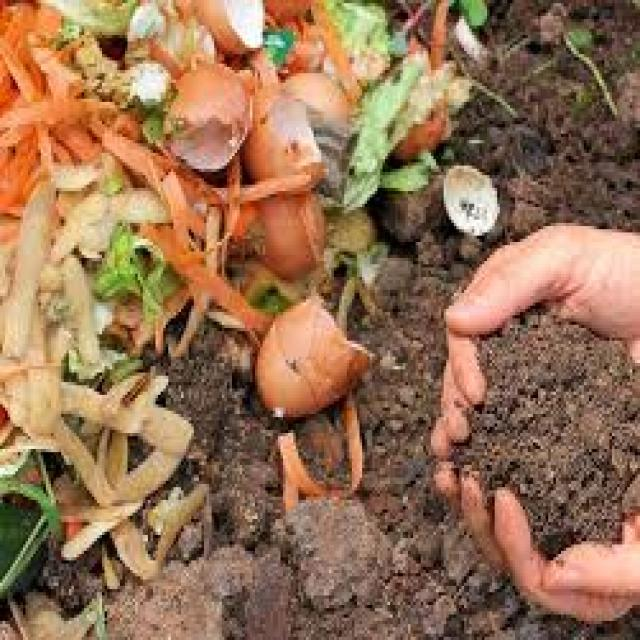food_waste: (11, 11, 424, 237)
